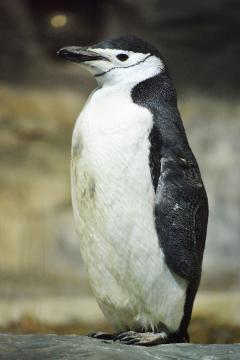chinstrap: (36, 22, 223, 355)
